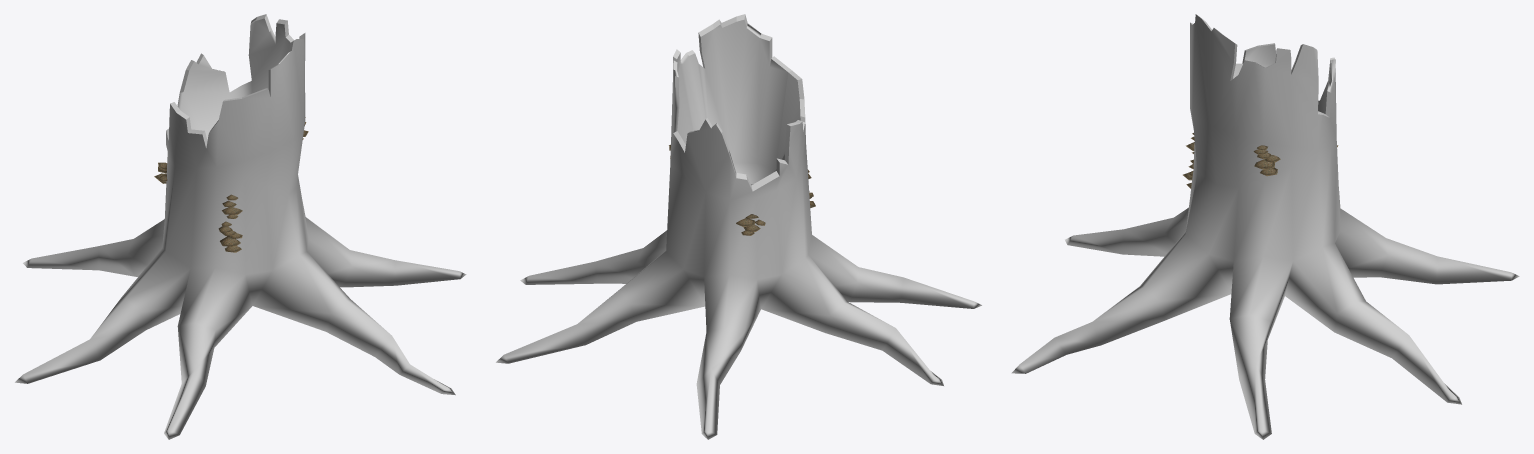
File: Trunk1_LOD1.fbx
3 views of the same model, side by side, from view 1: azimuth 30°, elevation 25°; view 2: azimuth 150°, elevation 25°; view 3: azimuth 270°, elevation 25° (orthographic). The views are drawn at different scales.
Visible parts, largest first — view 1: polySurface279; view 2: polySurface279; view 3: polySurface279.
Boxes of the visible parts, bbox=[...] form: polySurface279: bbox=[15, 14, 466, 439]; polySurface279: bbox=[496, 14, 981, 439]; polySurface279: bbox=[1011, 14, 1519, 439].
Size of the model in its own units: 5.42 by 3.54 by 5.08.
